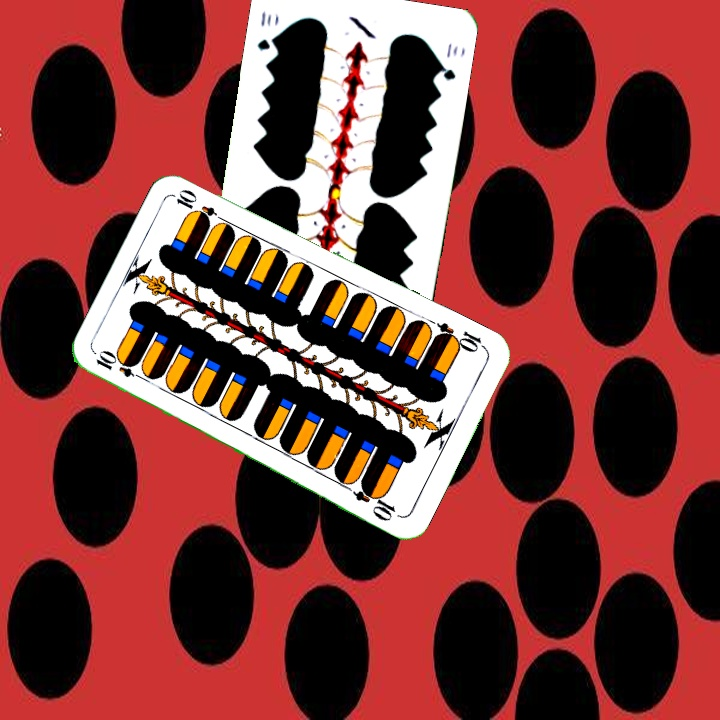E10: (431, 318, 489, 355), (91, 349, 149, 384)
G10: (253, 7, 280, 53)
